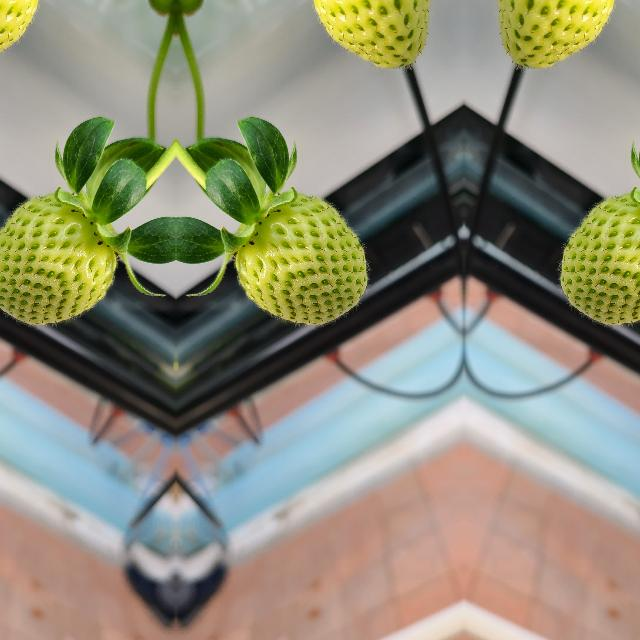Health_25: (234, 193, 366, 324), (0, 193, 115, 324), (560, 193, 640, 324)
